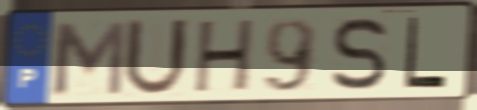9: (259, 17, 324, 94)
H: (190, 16, 258, 96)
L: (401, 14, 450, 91)
M: (51, 18, 129, 98)
S: (328, 15, 391, 93)
U: (120, 16, 192, 100)
